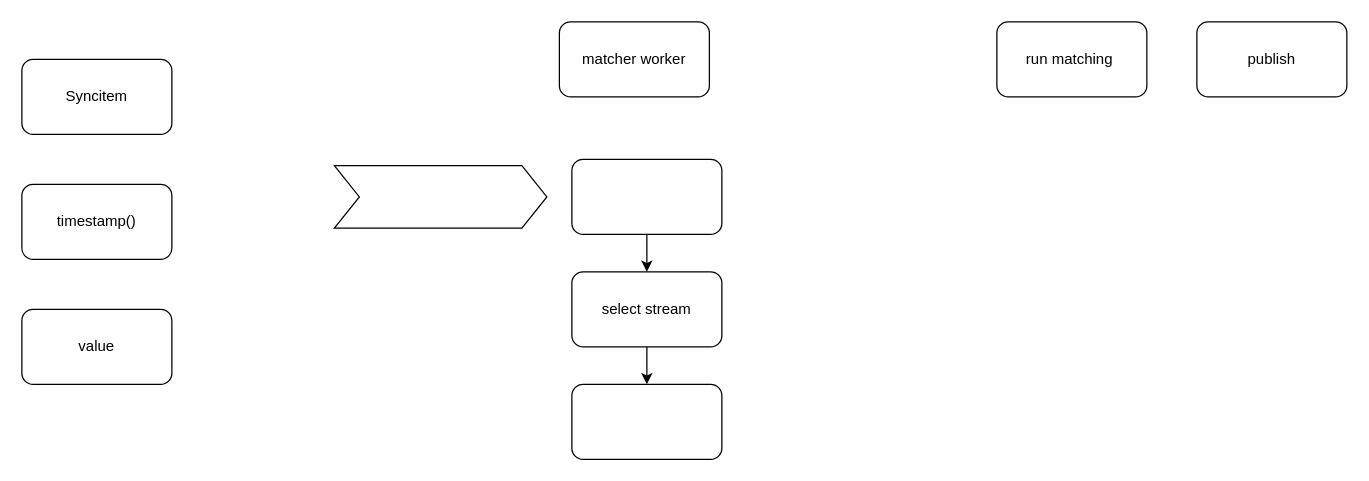
The diagram is 1369 pixels wide and 481 high, and some of its shapes have lost their labels. The box of each missing label's shape, as (x1, y1, x2, y2) in pixels:
push message to corresponding buffer: (333, 164, 547, 228)
push to buffer according to is device key: (571, 383, 722, 459)
recv_future: (571, 158, 722, 234)
